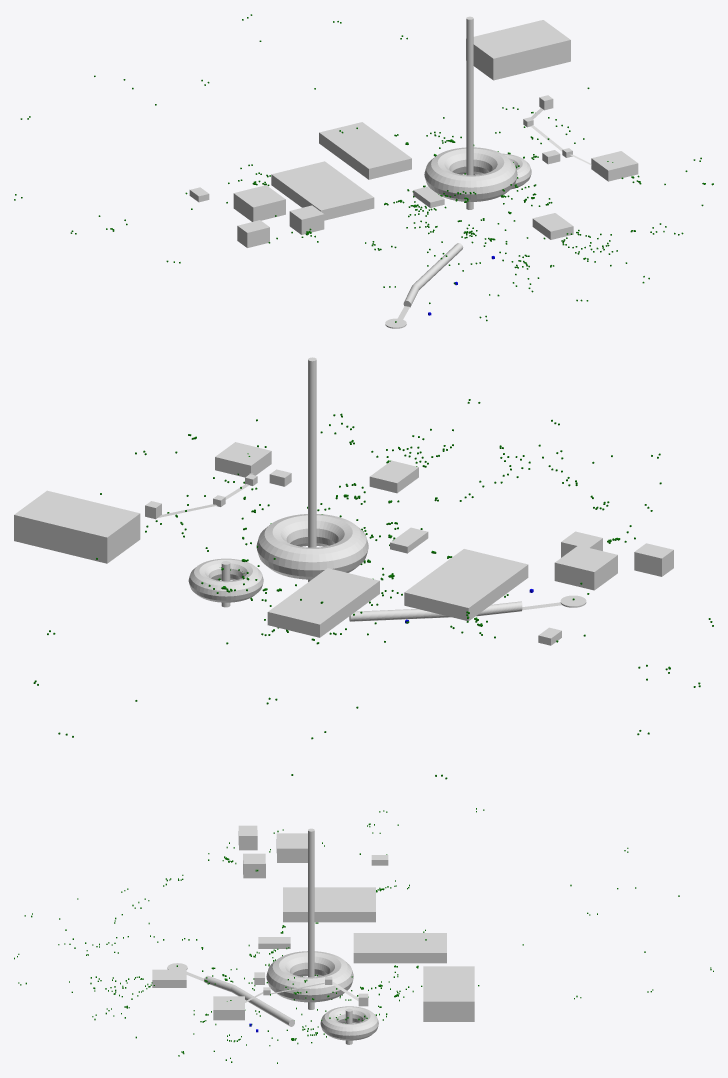
Rendered from cycle tharis.glb.
The picture shows the model from 3 angles, top to bottom: view 1: azimuth 30°, elevation 25°; view 2: azimuth 150°, elevation 25°; view 3: azimuth 270°, elevation 25°; orthographic projection. The views are drawn at different scales.
Visible parts, largest first — view 1: OsirisResearchCenter, StormPillarRing, Quarry, Atrium, KorolevHQ1, StormPillar.002, OsirisLab, KorolevHQ3, SparklingWaters, KorolevHQ2, AlienCorridor; view 2: OsirisResearchCenter, StormPillarRing, Quarry, Atrium, TheDescent, KorolevHQ1, StormPillar.002, OsirisLab, AlienCorridor, SparklingWaters, KorolevHQ2; view 3: StormPillarRing, Quarry, Atrium, OsirisResearchCenter, TheDescent, StormPillar.002, KorolevHQ1, AlienCorridor, OsirisLab, SparklingWaters, KorolevHQ3, KorolevHQ2.
Part boxes in pixels (x1,y1,x2,y2): OsirisResearchCenter: (466, 20, 570, 80); StormPillarRing: (424, 147, 517, 201); Quarry: (271, 161, 374, 220); Atrium: (319, 122, 411, 179); KorolevHQ1: (233, 185, 285, 221); StormPillar.002: (466, 16, 473, 209); OsirisLab: (591, 151, 638, 181); KorolevHQ3: (289, 205, 324, 234); SparklingWaters: (532, 213, 573, 239); KorolevHQ2: (237, 220, 269, 247); AlienCorridor: (403, 243, 463, 307); OsirisResearchCenter: (14, 490, 140, 563); StormPillarRing: (256, 514, 368, 579); Quarry: (404, 549, 528, 620); Atrium: (267, 568, 379, 637); TheDescent: (188, 558, 263, 602); KorolevHQ1: (554, 545, 617, 590); StormPillar.002: (308, 357, 316, 581); OsirisLab: (215, 442, 271, 477); AlienCorridor: (349, 601, 522, 621); SparklingWaters: (369, 460, 418, 493); KorolevHQ2: (634, 543, 673, 576); StormPillarRing: (266, 951, 353, 1002); Quarry: (283, 887, 375, 922); Atrium: (353, 933, 446, 963); OsirisResearchCenter: (423, 966, 474, 1021); TheDescent: (320, 1006, 378, 1040); StormPillar.002: (308, 828, 314, 1009); KorolevHQ1: (276, 833, 307, 862); AlienCorridor: (204, 975, 294, 1026); OsirisLab: (213, 996, 244, 1020); SparklingWaters: (152, 969, 186, 987); KorolevHQ3: (243, 853, 265, 878); KorolevHQ2: (238, 825, 257, 850).
Size of the model in its own units: 106 by 42.06 by 123.
